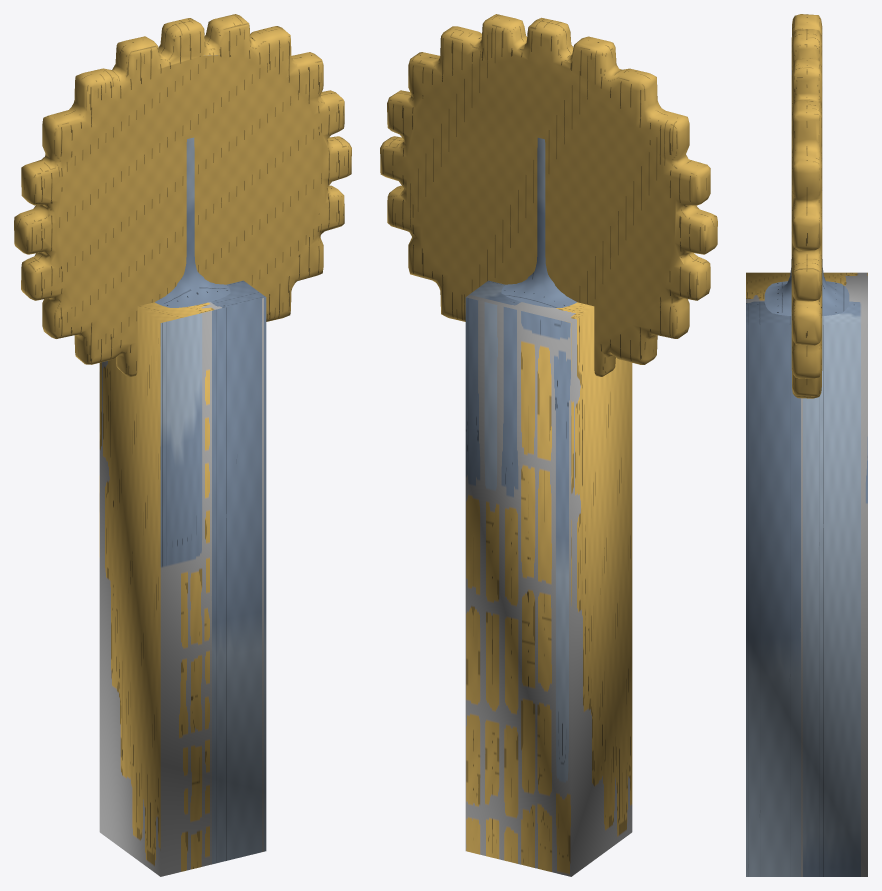
The model's file is landmark_gear.glb.
3 renders of one model, left to right at view 1: azimuth 30°, elevation 25°; view 2: azimuth 150°, elevation 25°; view 3: azimuth 270°, elevation 25°, orthographic.
Visible parts, largest first — view 1: col, gear, lod0; view 2: col, gear, lod0; view 3: col, gear, lod0.
Part boxes in pixels (bbox=[...]): col: bbox=[99, 280, 266, 876]; gear: bbox=[14, 14, 351, 376]; lod0: bbox=[155, 137, 230, 307]; col: bbox=[465, 280, 632, 876]; gear: bbox=[380, 14, 717, 376]; lod0: bbox=[501, 137, 576, 307]; col: bbox=[746, 272, 867, 876]; gear: bbox=[791, 14, 822, 398]; lod0: bbox=[764, 259, 849, 315].
Size of what is drawn, in the model's own units: 7.49 by 17.75 by 2.4.
Materials: 1 (1 with a texture image).
